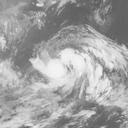cyclone: (36, 44, 97, 90)
